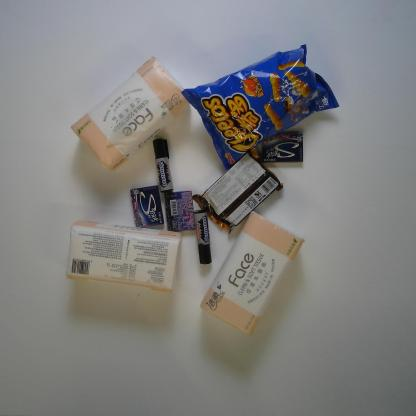Dessert: (192, 150, 284, 235)
Gum: (244, 128, 304, 166), (129, 182, 164, 230), (161, 190, 197, 232)
Puffed Food: (182, 43, 341, 171)
Stationery: (151, 134, 175, 194), (191, 206, 212, 267)
Tissue: (67, 52, 189, 175), (197, 207, 306, 337), (65, 221, 182, 295)
